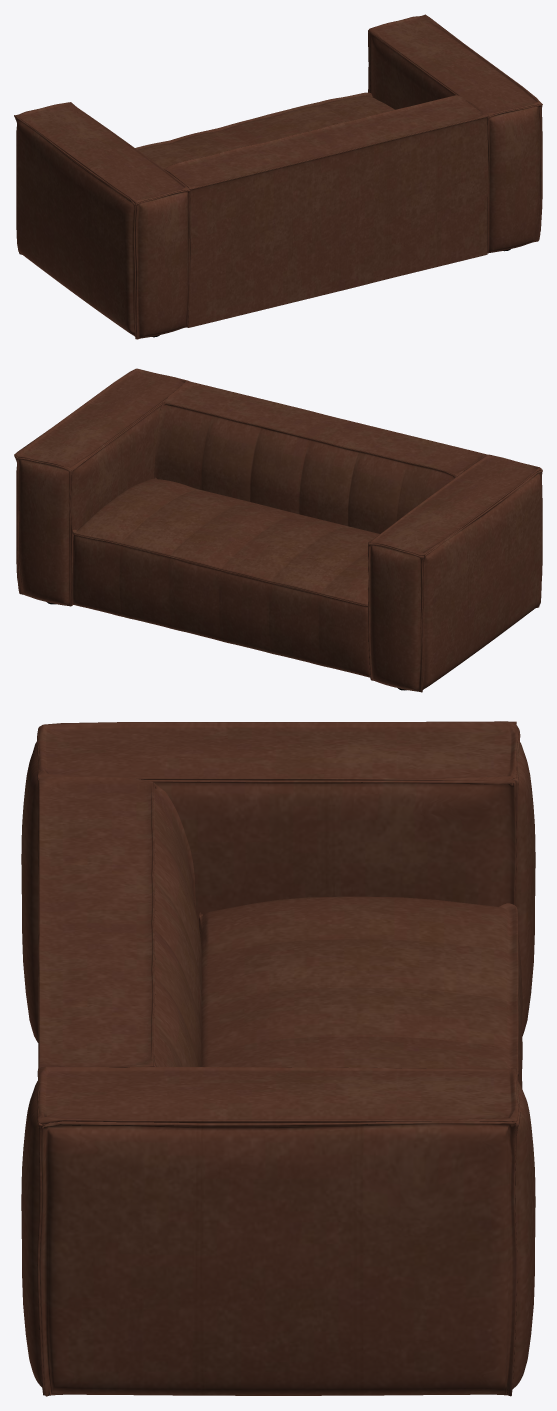
The model's file is abo_B07JCDQWM6.glb.
3 views of the same model, one above another, from view 1: azimuth 30°, elevation 25°; view 2: azimuth 150°, elevation 25°; view 3: azimuth 270°, elevation 25° (orthographic). The views are drawn at different scales.
Visible parts, largest first — view 1: RootNode; view 2: RootNode; view 3: RootNode.
Part boxes in pixels (<box>): RootNode: <box>14,14,542,339</box>; RootNode: <box>14,368,542,692</box>; RootNode: <box>21,721,535,1396</box>.
Bounding box in the file's own units: 2.09 × 0.7029 × 1.1.
Materials: 1 (1 with a texture image).
